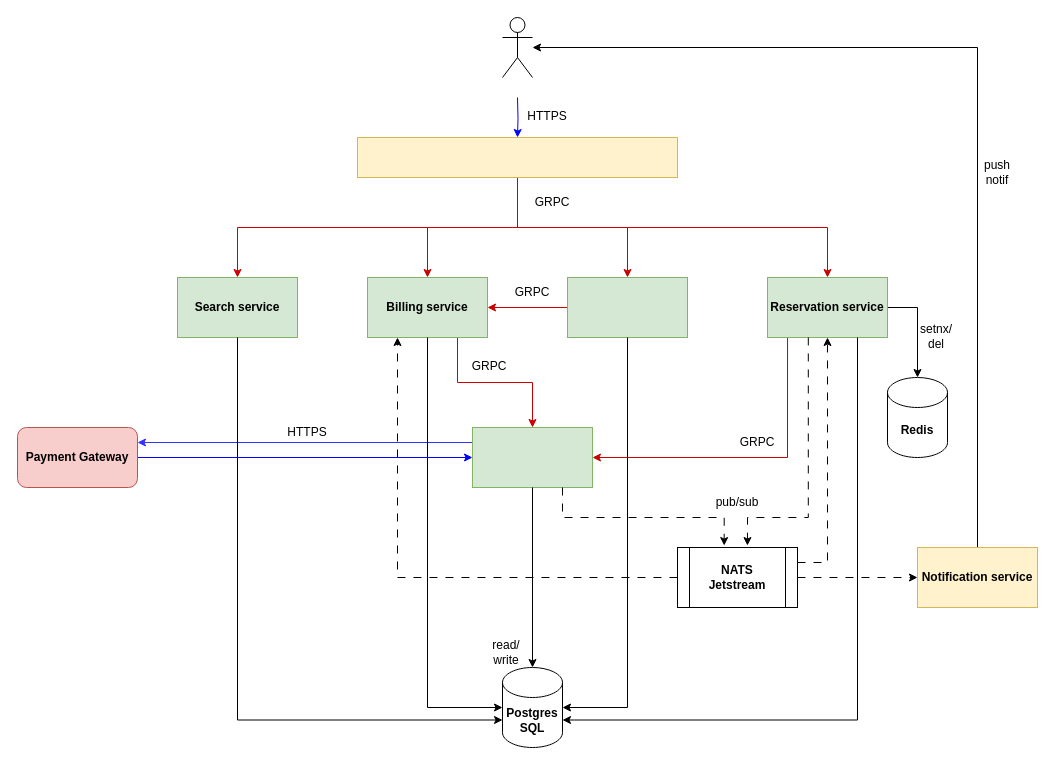
Image size: 1055x765. Some labels were removed from this diagram. Here are the shapes that lost their labels. From the top down, the centre of each, then its label:
pixel 517 47: Client (mobile app)
pixel 517 157: API Gateway (routing, auth, TLS)
pixel 627 307: Presence service
pixel 532 457: Payment service
